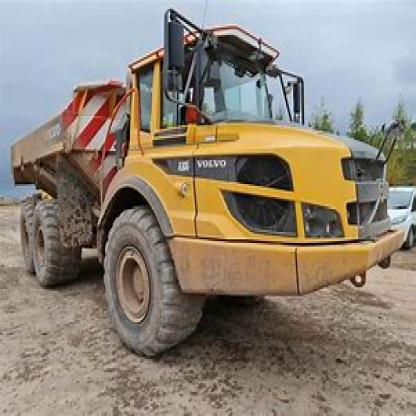dump_truck: (10, 15, 400, 344)
